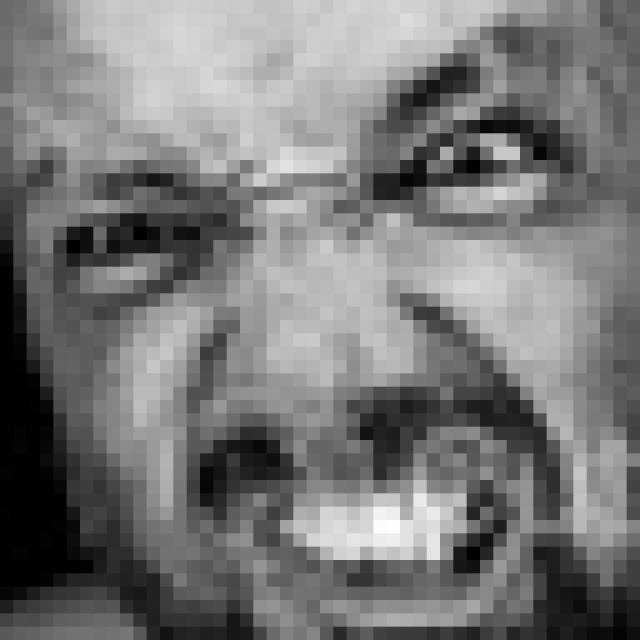angry: (45, 59, 581, 640)
